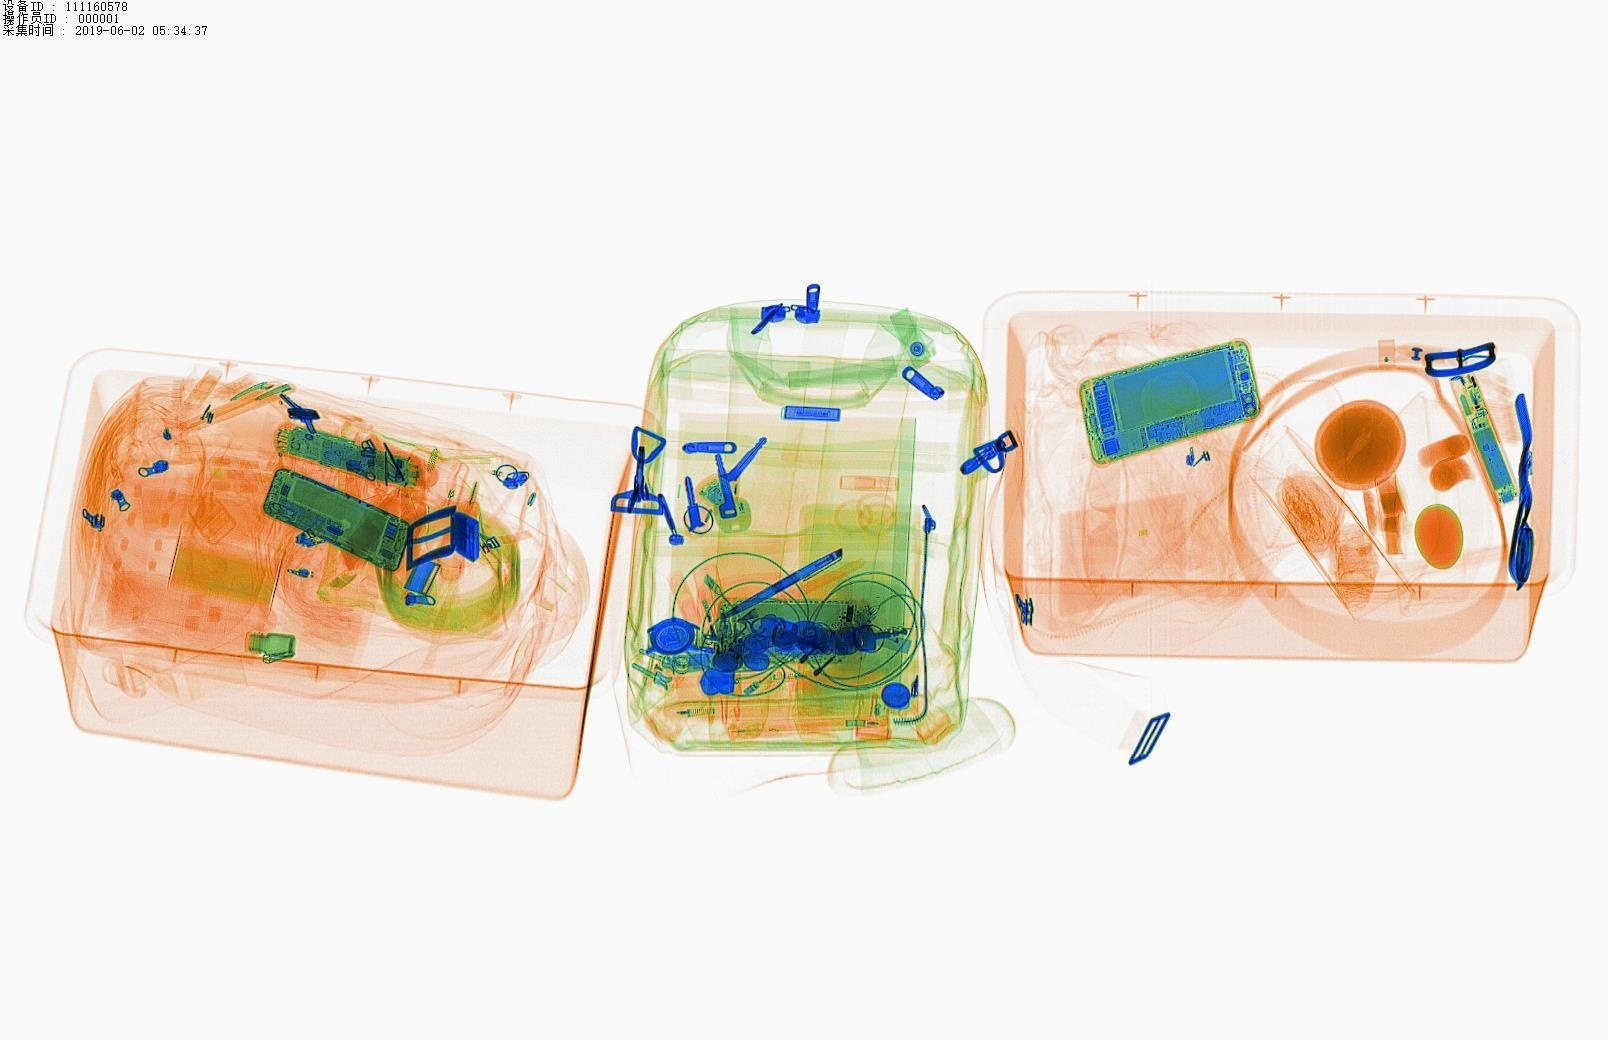NonmetallicFire: (691, 555, 738, 659)
